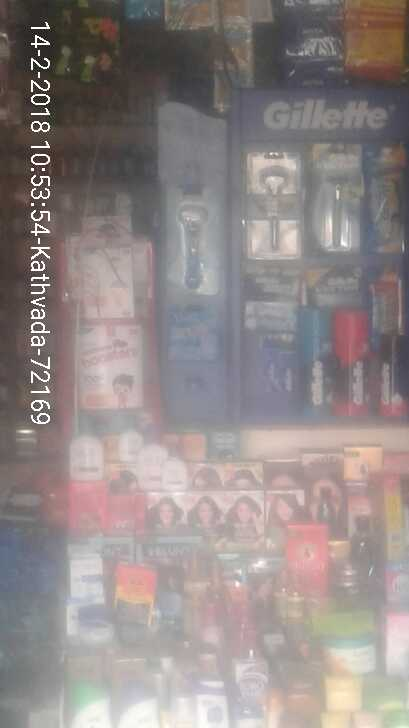beauty: (159, 176, 222, 289), (310, 141, 359, 262), (249, 147, 295, 265), (329, 307, 367, 418), (297, 302, 330, 421), (380, 334, 409, 421)
